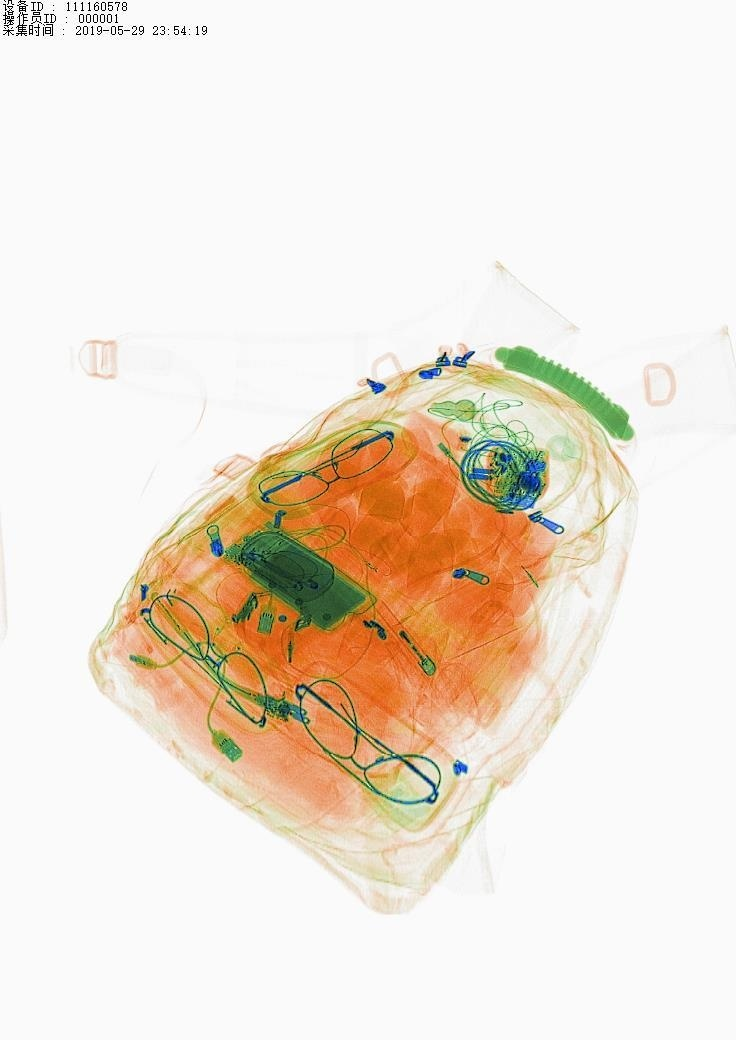NonmetallicFire: (373, 598, 449, 692)
